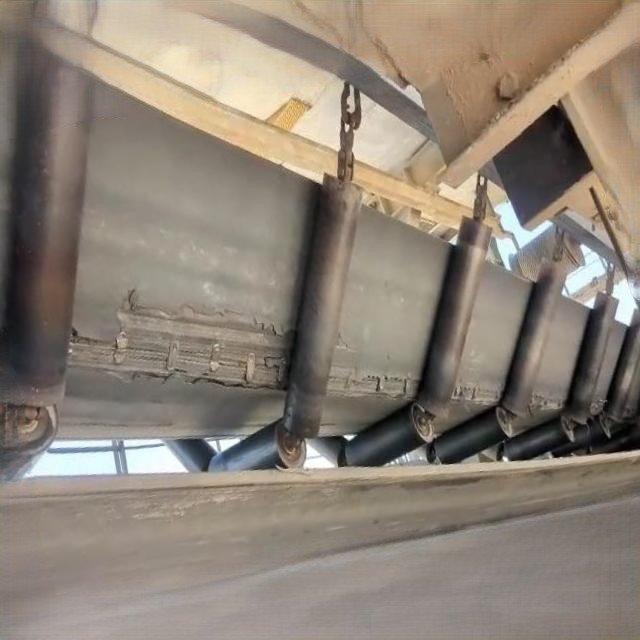Tear: (62, 285, 298, 397), (326, 330, 424, 408), (450, 371, 505, 411)
